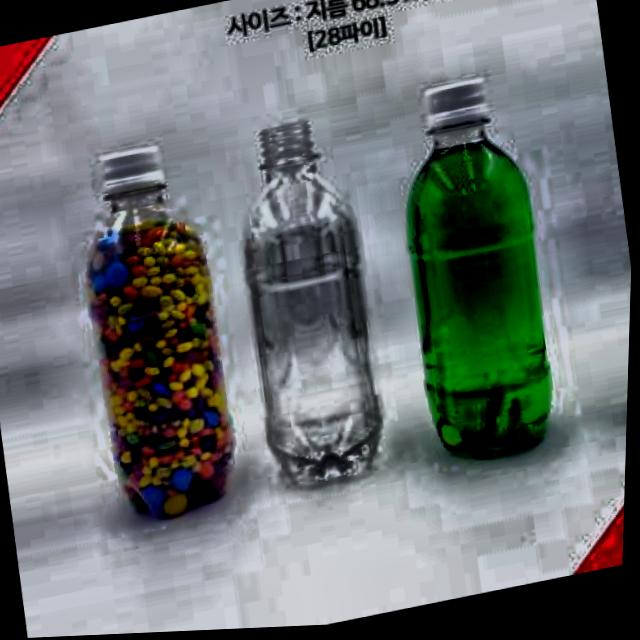Bottles: (364, 58, 585, 501), (209, 98, 415, 518)
